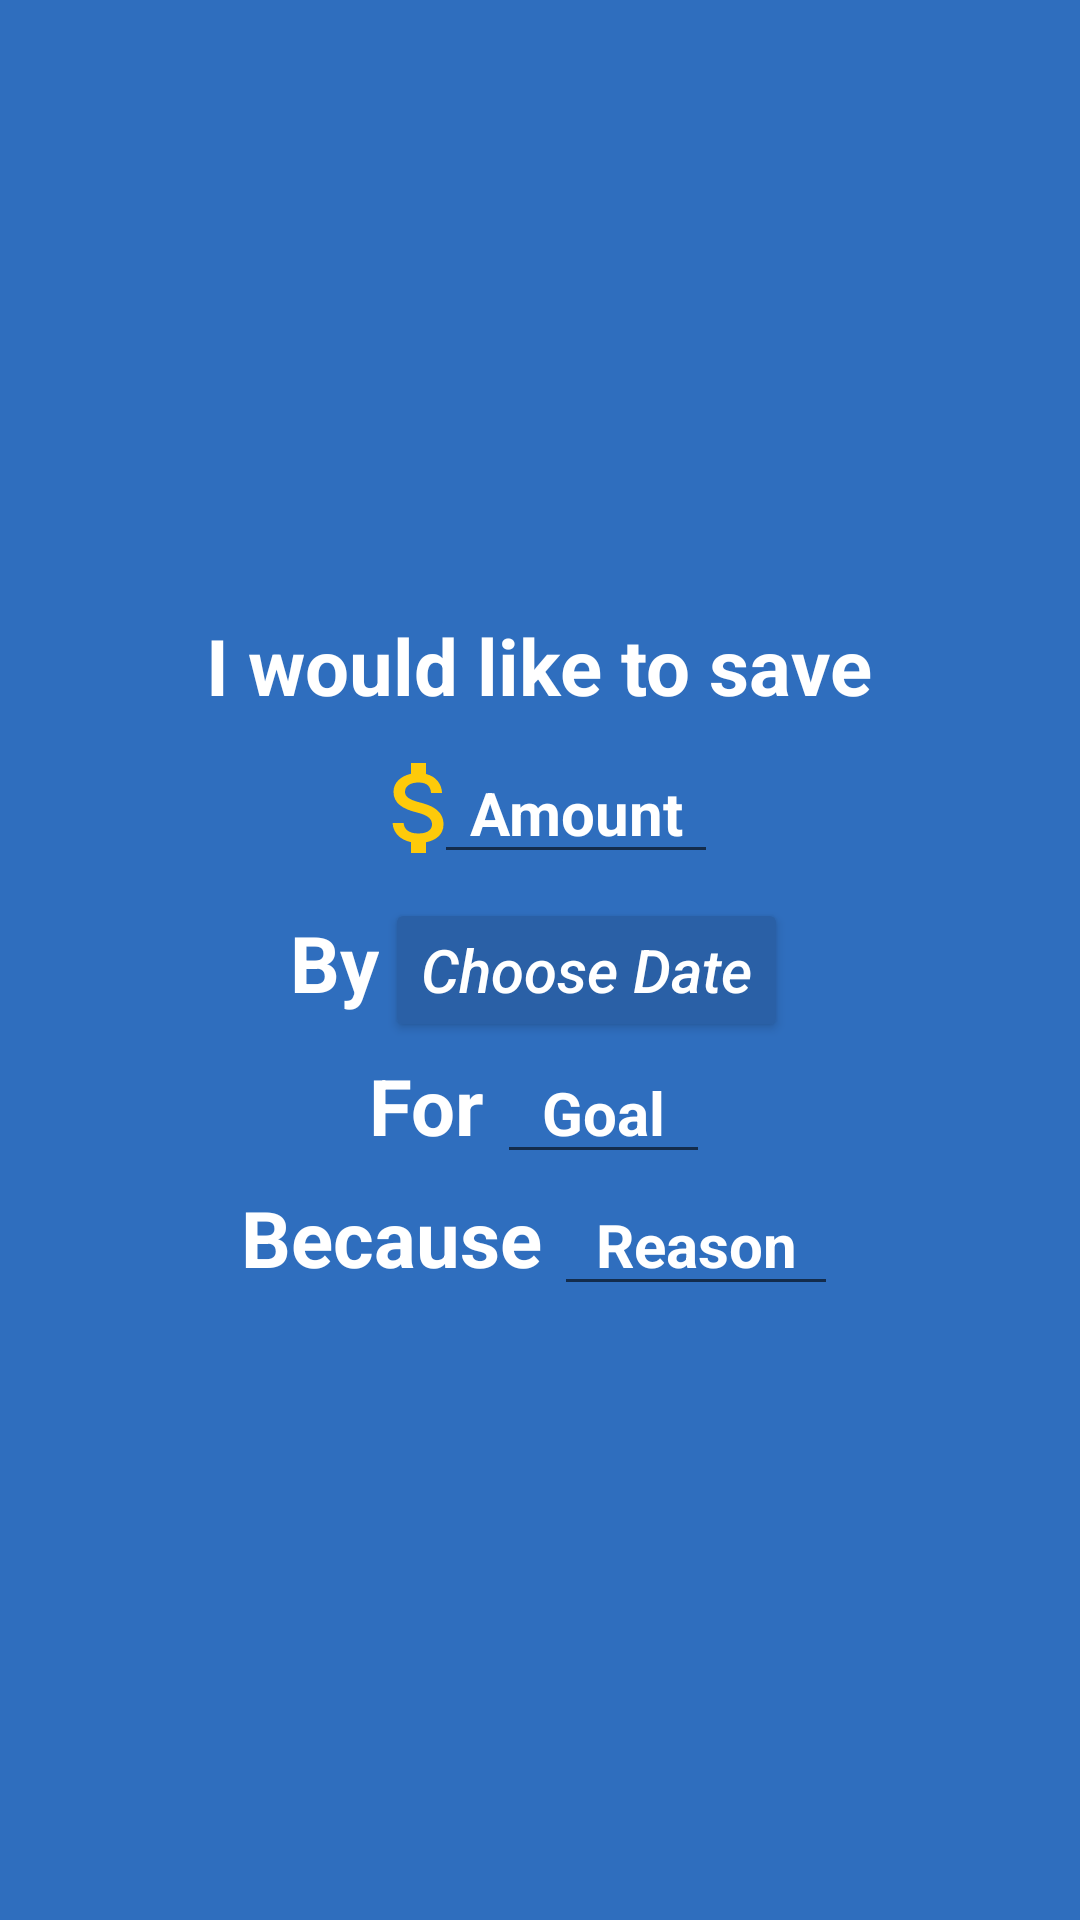

Named icons in this screenshot (1080x1920) and their centers, (x=x, y=y):
attach money: (x=418, y=808)
